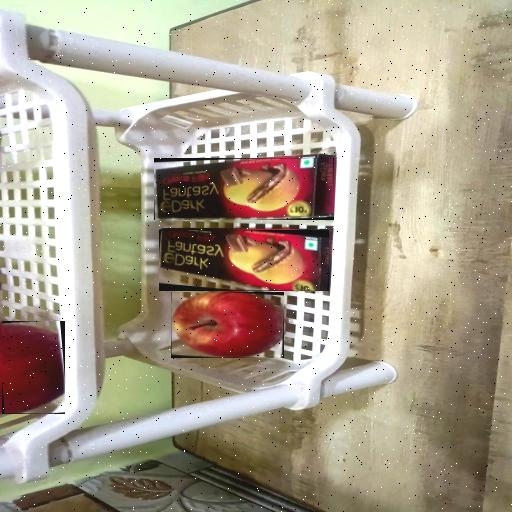Apple: (171, 292, 284, 358), (2, 321, 65, 414)
Choco Fills: (154, 158, 334, 220), (159, 230, 329, 291)
